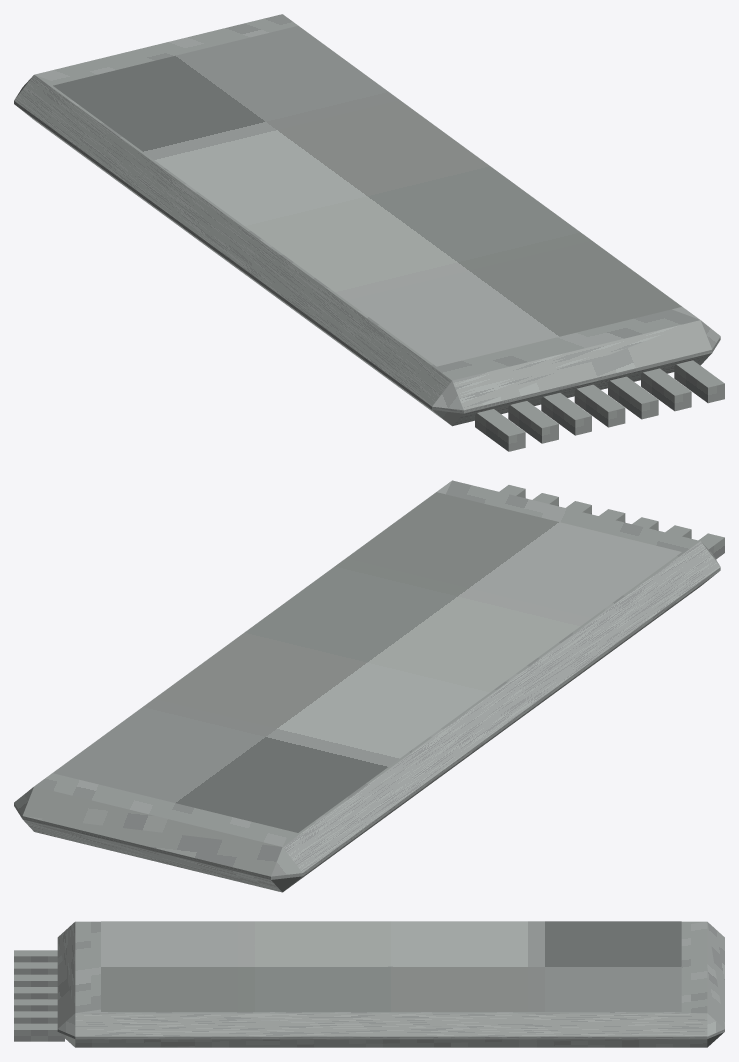
File: patchwork_scarf.glb
3 renders of one model, top to bottom at view 1: azimuth 30°, elevation 25°; view 2: azimuth 150°, elevation 25°; view 3: azimuth 270°, elevation 25°, orthographic. The views are drawn at different scales.
Parts seen in each view (by area): view 1: block_stitched cloth panels, block_woven scarf, block_fringe (×7); view 2: block_stitched cloth panels, block_woven scarf; view 3: block_stitched cloth panels, block_woven scarf, block_fringe (×7).
Boxes of the visible parts, x1,y1,x2,y2 form: block_stitched cloth panels: [53, 26, 681, 366]; block_woven scarf: [14, 14, 720, 426]; block_fringe (×7): [475, 360, 724, 451]; block_stitched cloth panels: [53, 492, 681, 832]; block_woven scarf: [14, 480, 720, 892]; block_stitched cloth panels: [101, 921, 681, 1011]; block_woven scarf: [57, 921, 724, 1047]; block_fringe (×7): [14, 950, 64, 1041].
Bounding box in the file's own units: 0.0743 × 0.0115 × 0.2095.
Materials: 1 (1 with a texture image).
